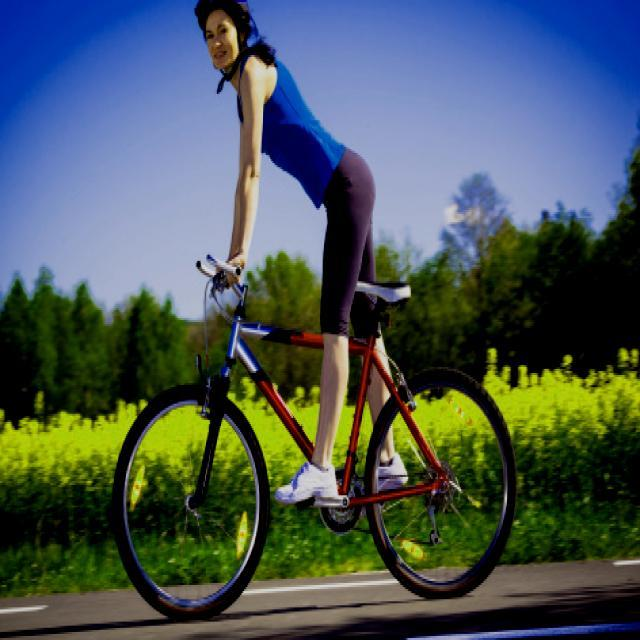Helmet: (180, 0, 268, 96)
